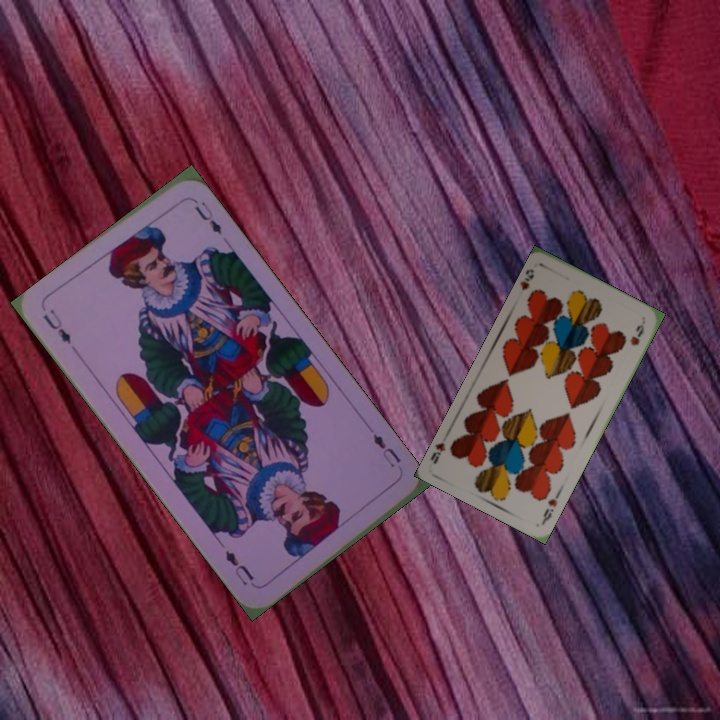EU: (39, 305, 74, 346), (368, 430, 403, 470)
H9: (538, 494, 560, 525), (517, 264, 537, 293)
